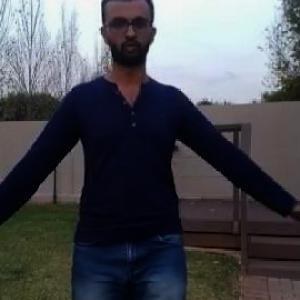land: (0, 4, 272, 299)
